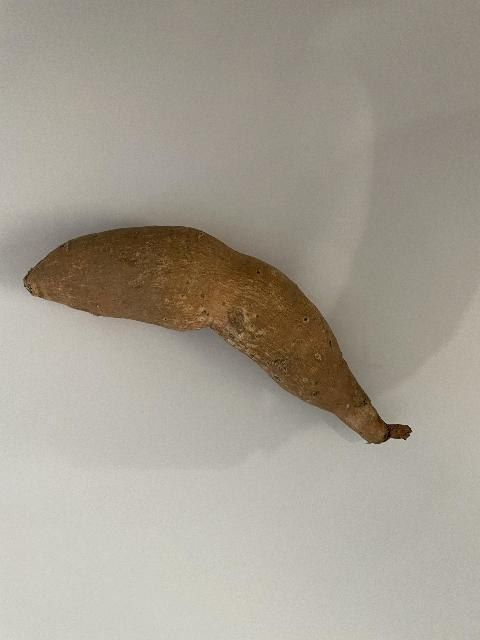sweetpotato: (24, 224, 412, 446)
